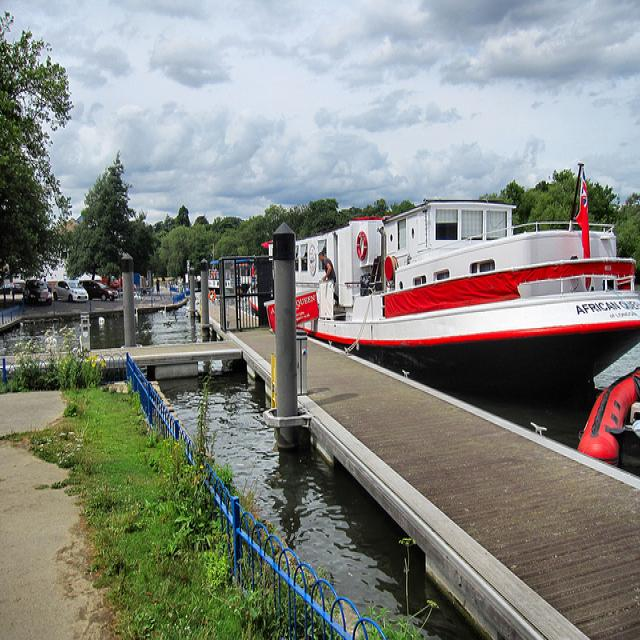Vehicle: (52, 277, 88, 304), (23, 278, 52, 306), (82, 282, 119, 302), (14, 283, 23, 294)
